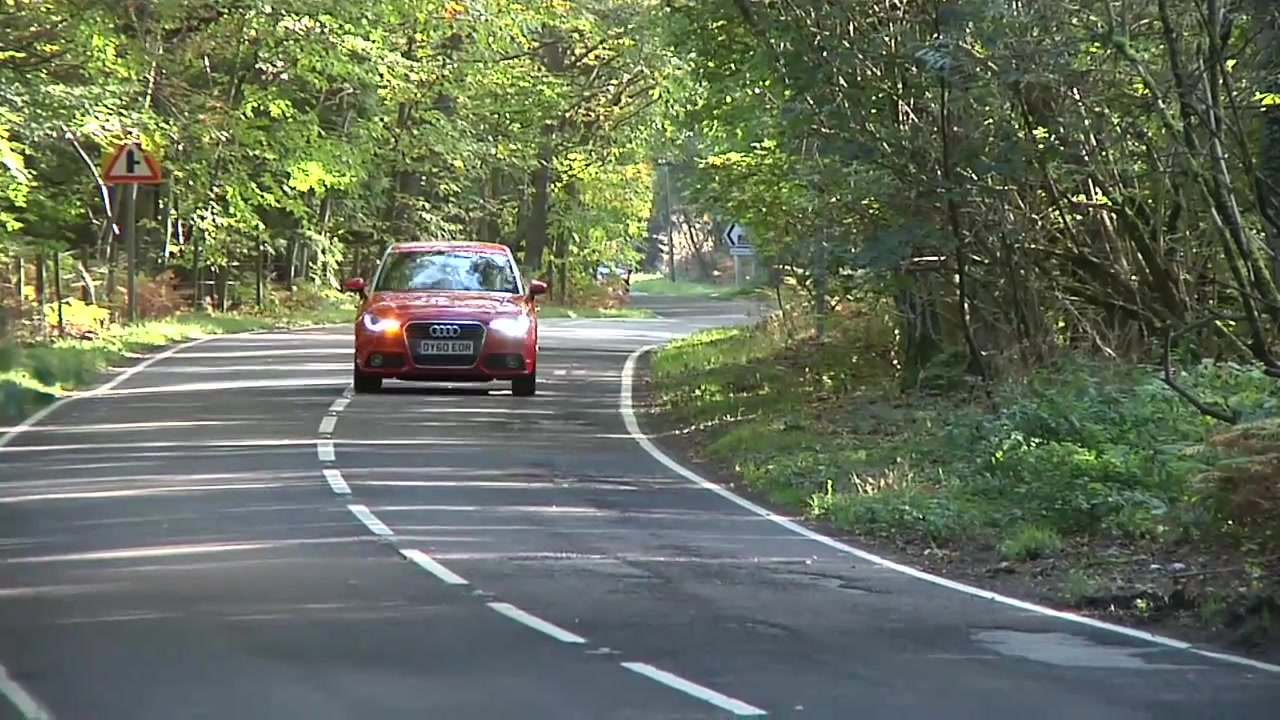car: (345, 233, 555, 399)
